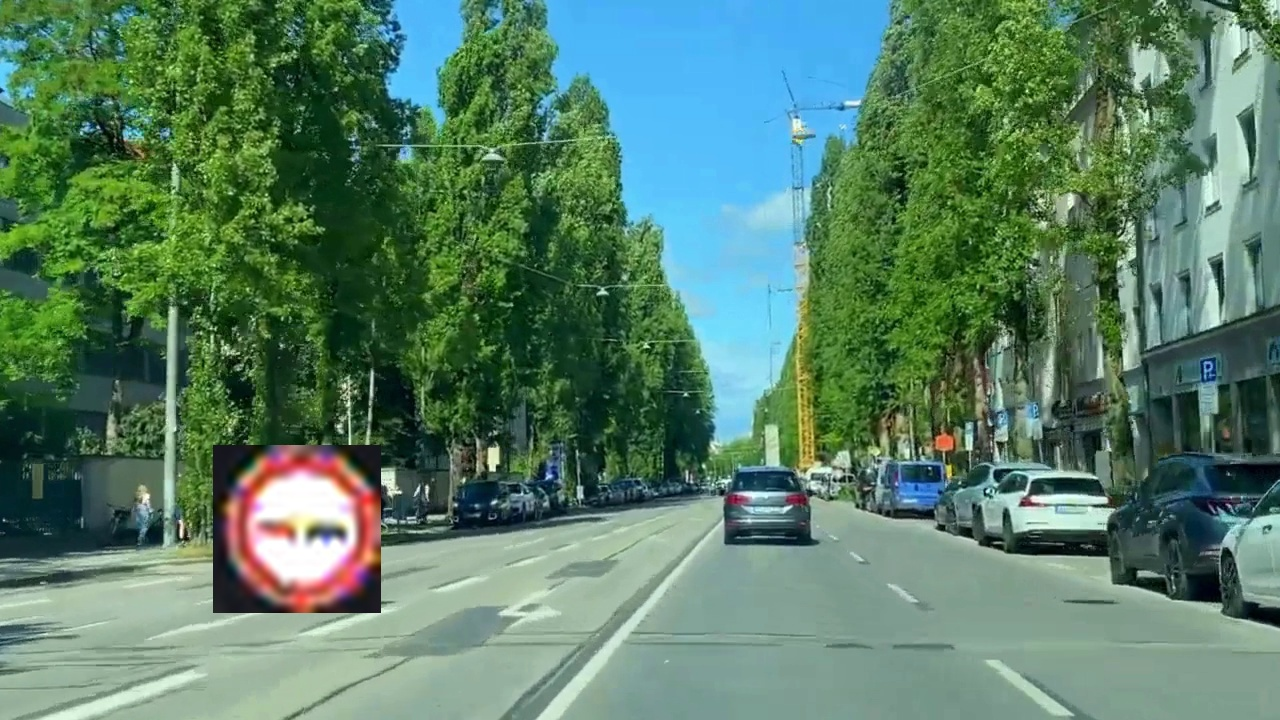No passing: (213, 445, 381, 613)
